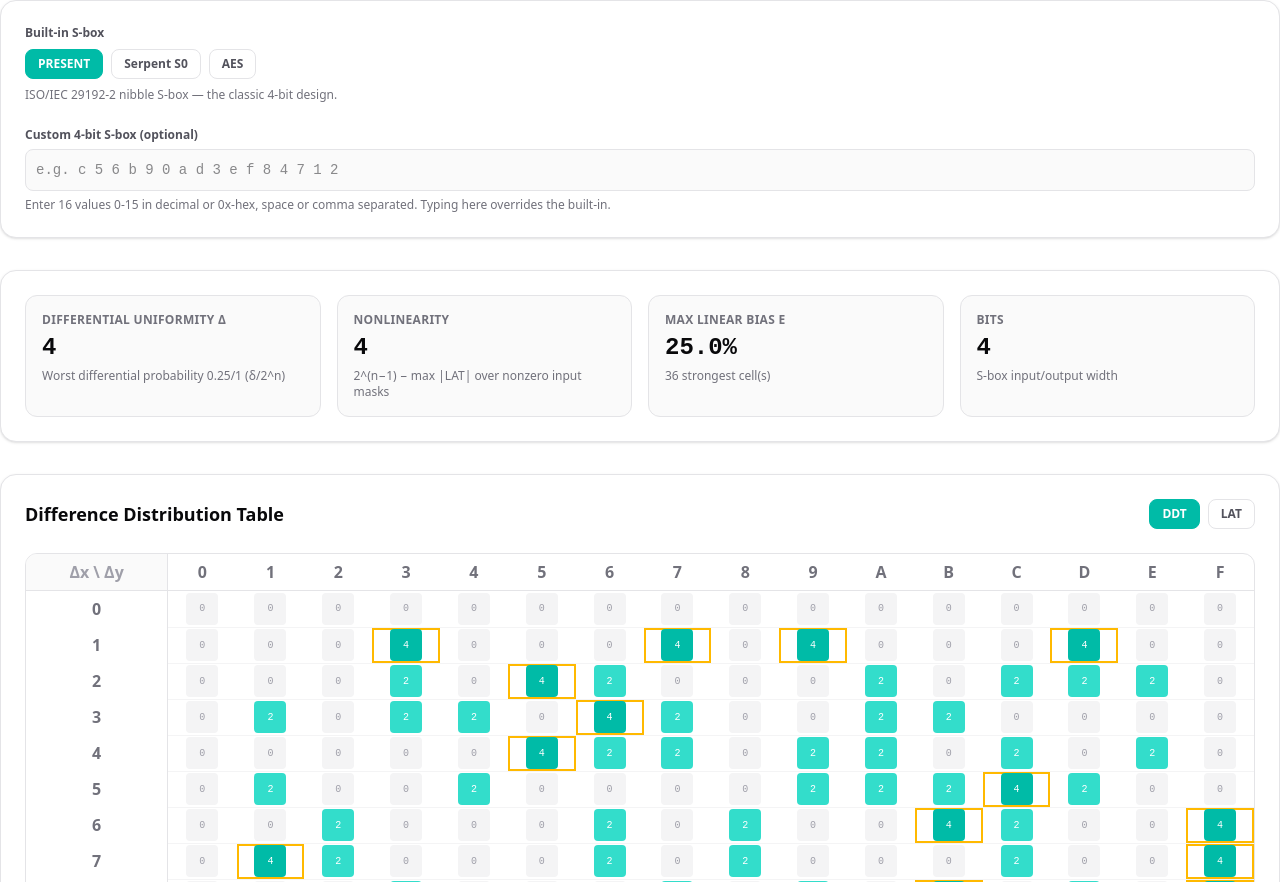
DDTLATWorkbench › switches between DDT and LAT modes
The width and height of the screenshot is (1280, 882).
Click the button "LAT": (1231, 514) [1208,499,1255,529]
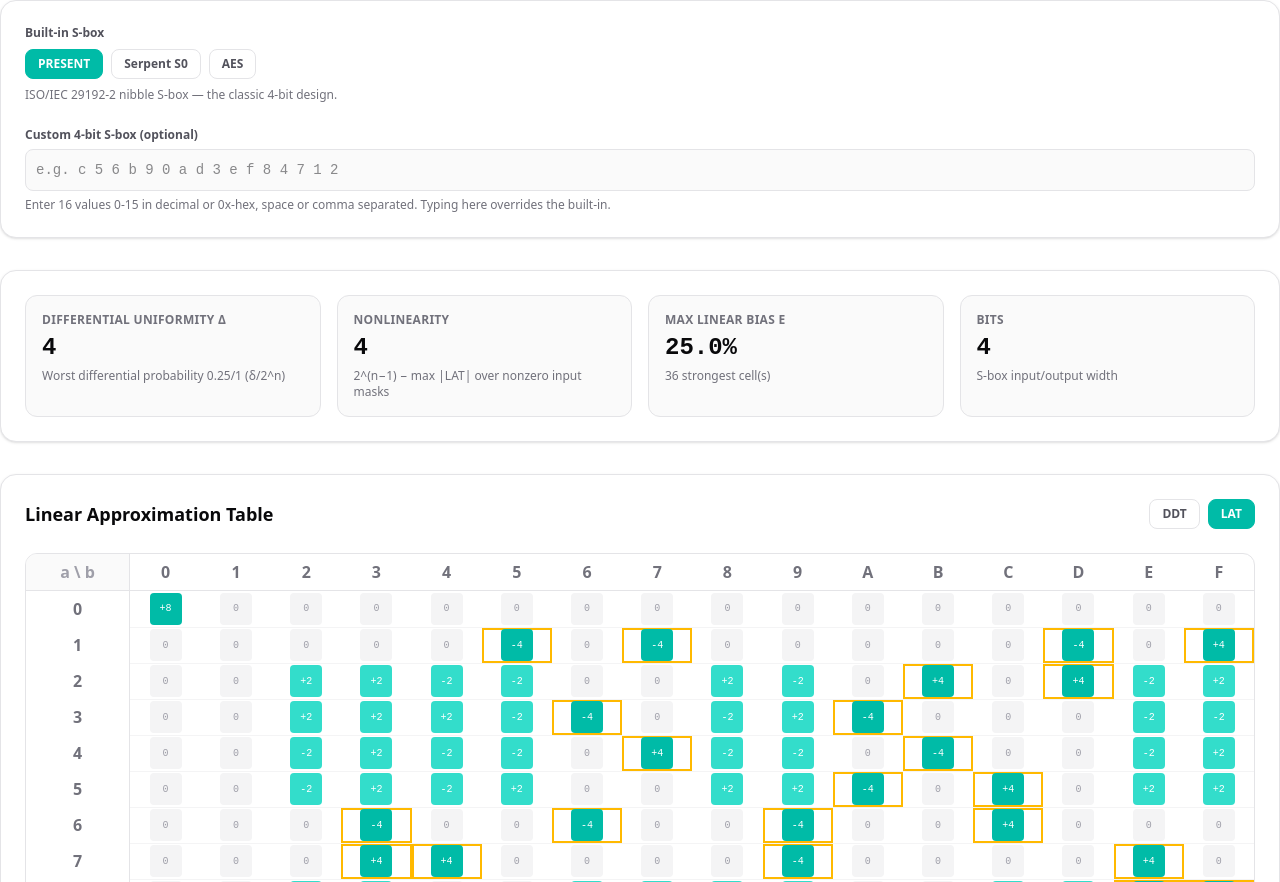
Click the button "DDT": (1175, 514) [1150,499,1200,529]
(page scrolled)
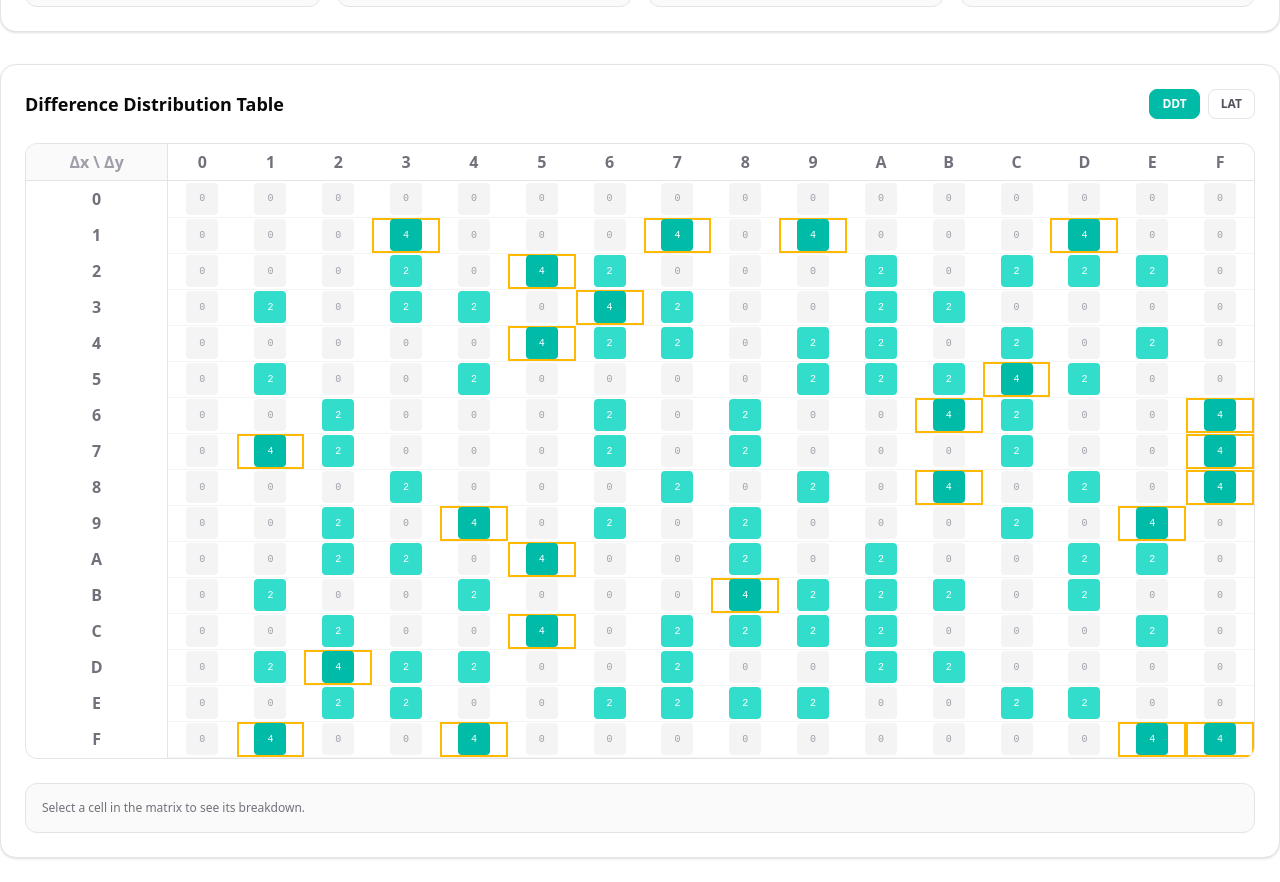
Check: the table named "Difference Distribution Table" is shown
